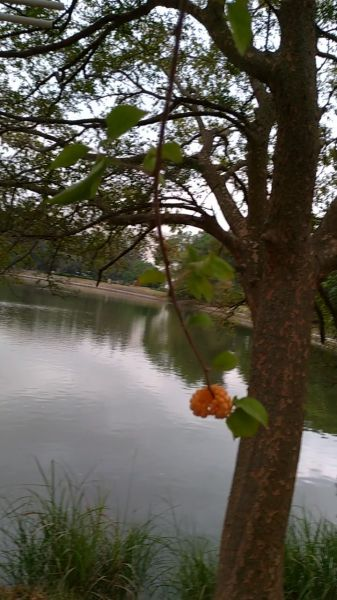eggs: (184, 383, 234, 425)
